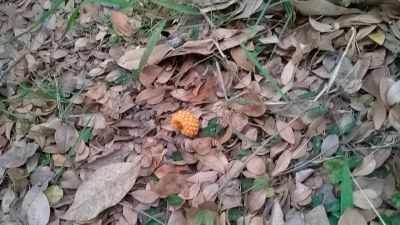eggs: (171, 109, 200, 138)
